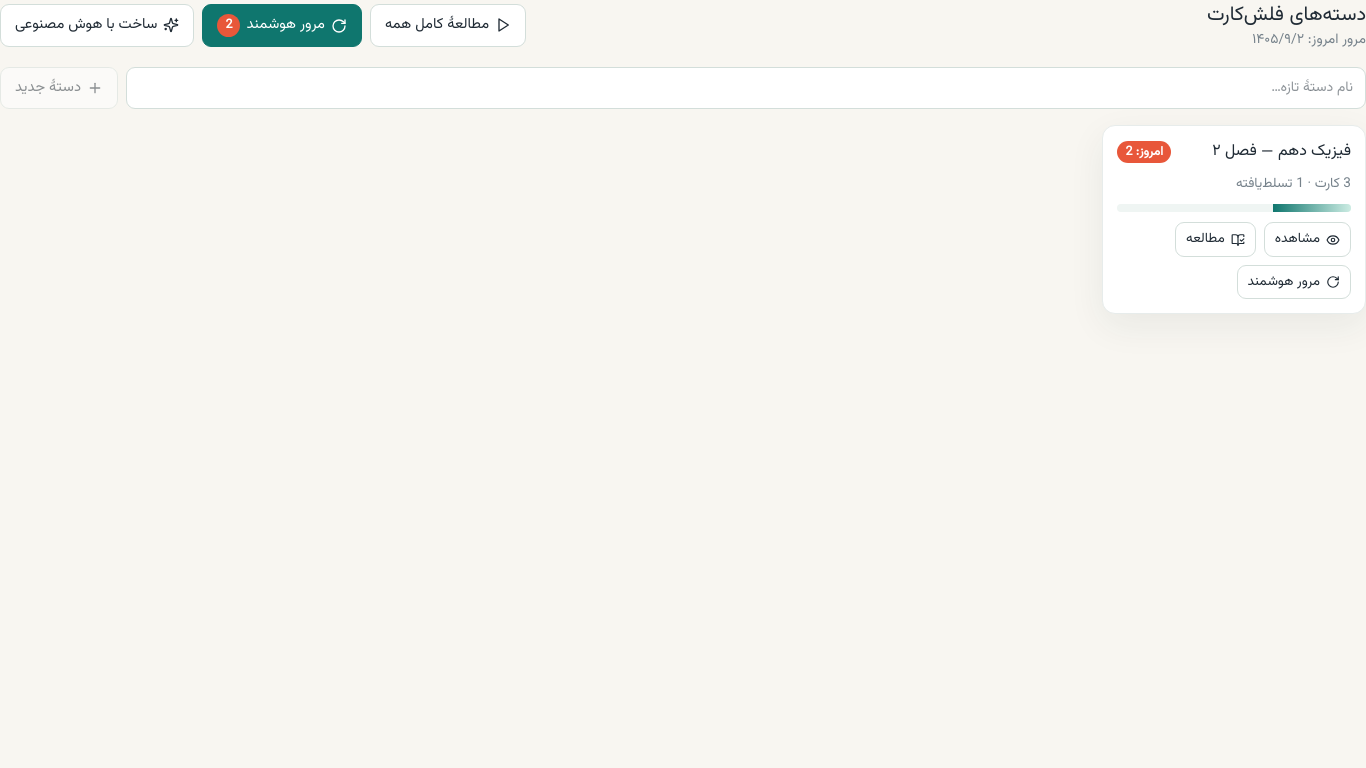
Test: generation modal › keeps the form values and shows the error when generation fails
Click the button "ساخت با هوش مصنوعی". click: (97, 26)
box: [0, 4, 194, 47]
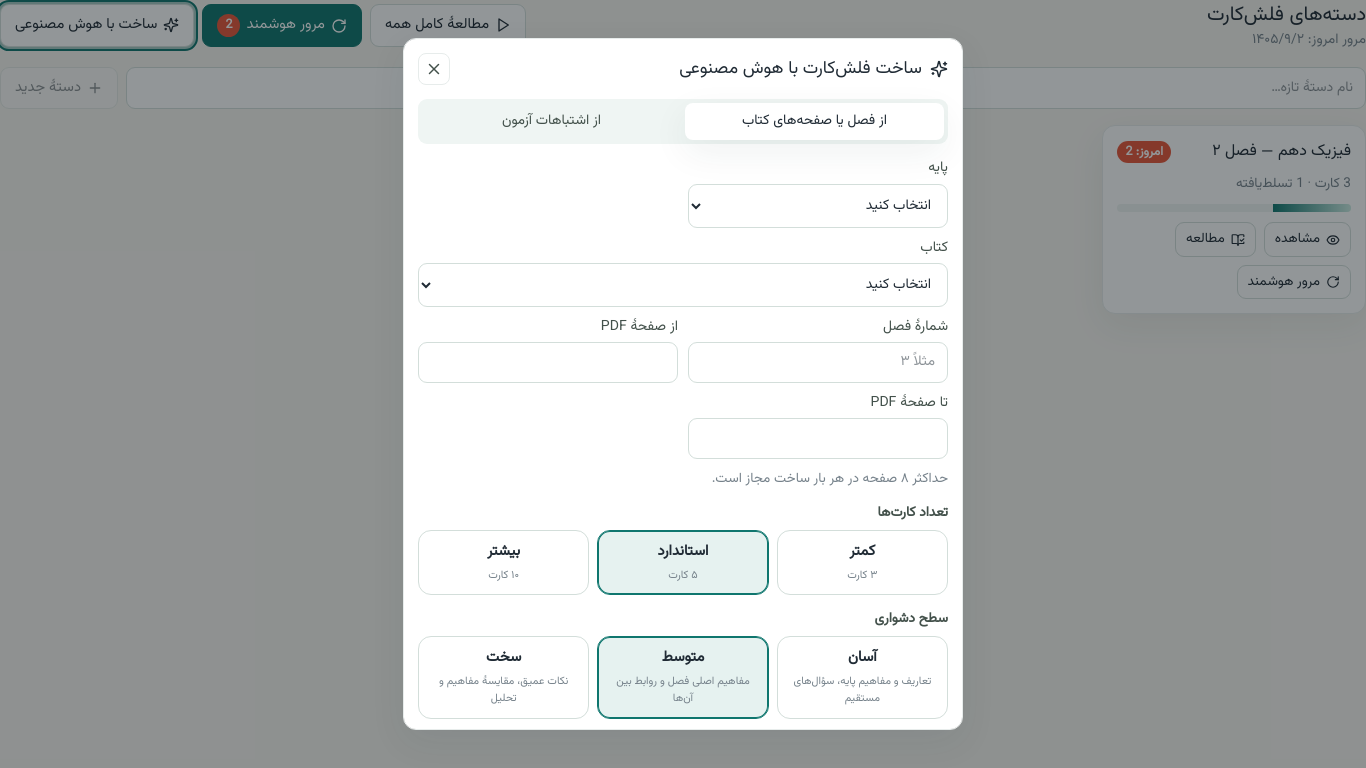
Click the button "از اشتباهات آزمون". click: (552, 122)
box: [422, 103, 681, 140]
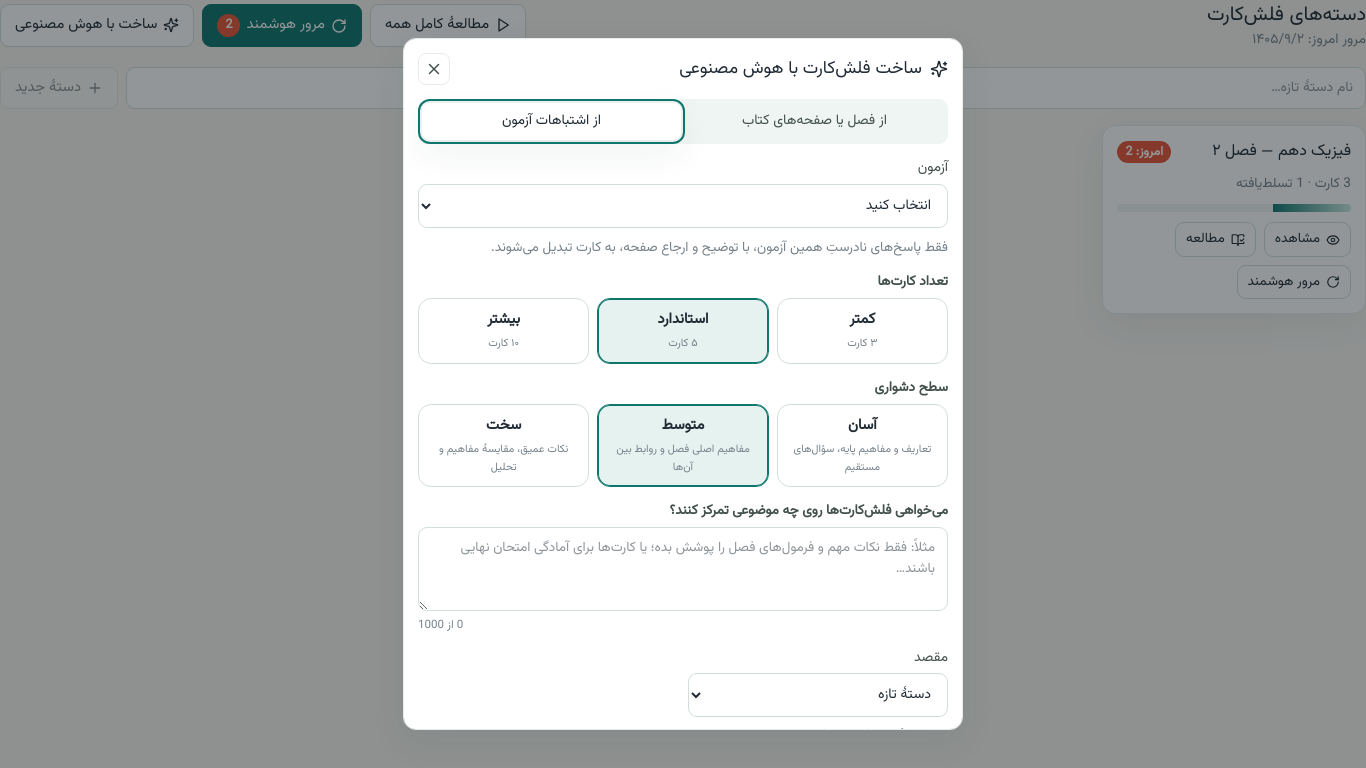
Expected: the dropdown labelled "آزمون" is shown
Select "آزمون ۱" in the dropdown labelled "آزمون". click: (683, 206)
box: [418, 184, 948, 228]
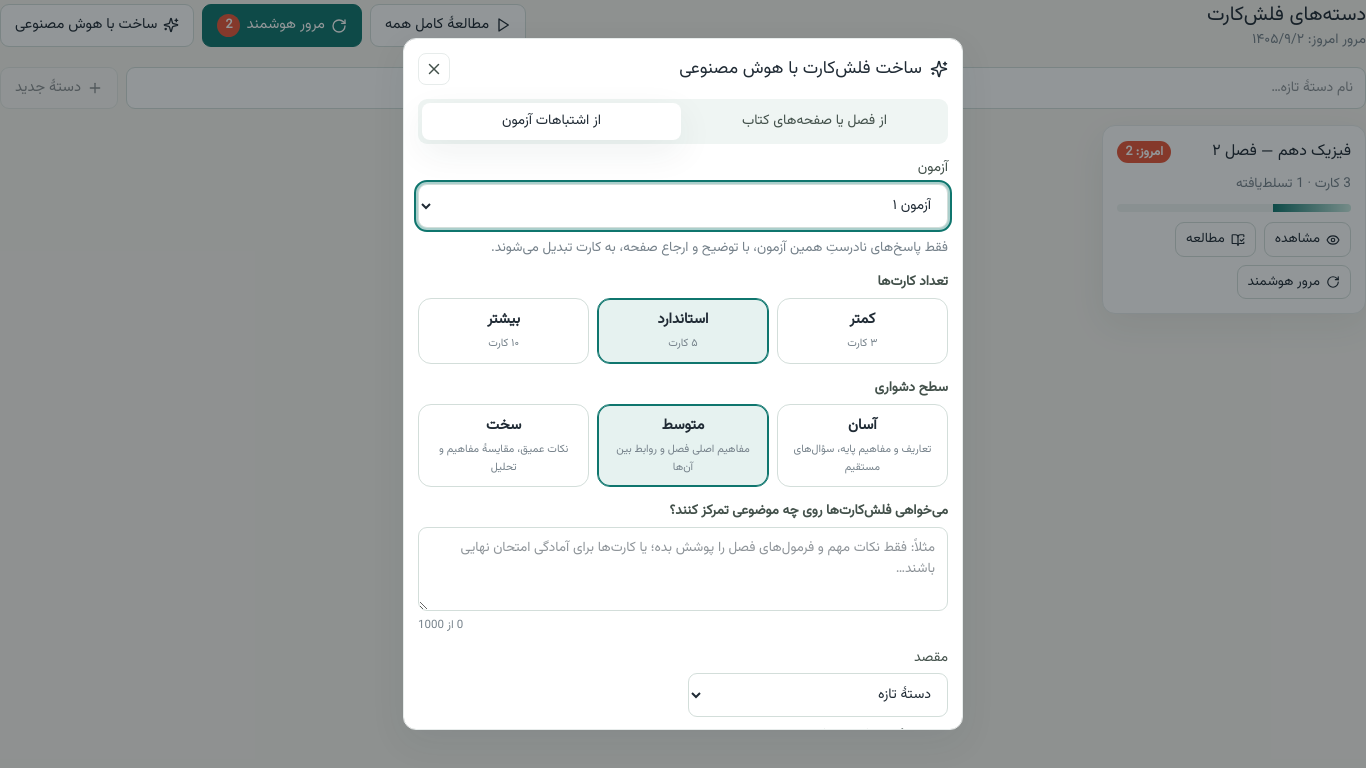
Click the radio button labelled "کمتر ۳ کارت". click: (862, 331)
box: [777, 298, 948, 364]
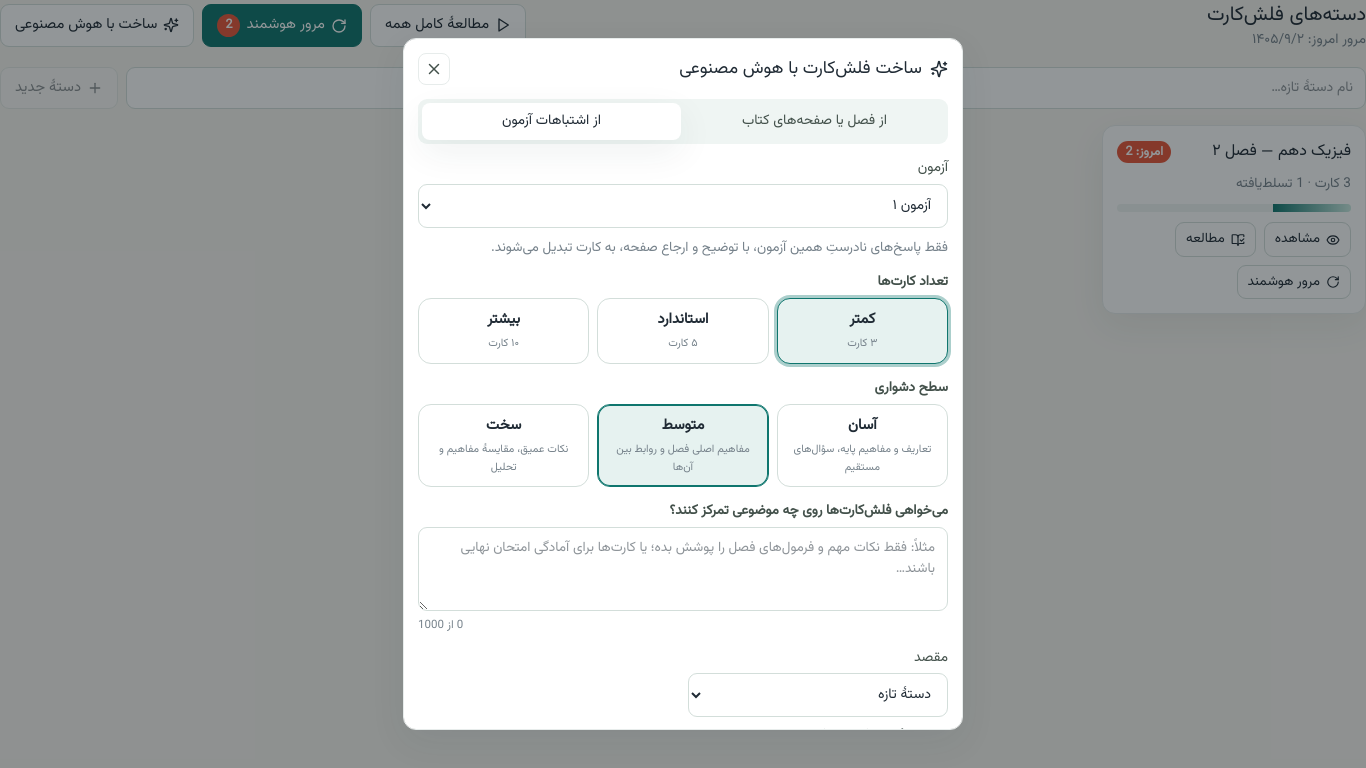
Type "فقط تعریف اصطلاحات" into the text box labelled "می‌خواهی فلش‌کارت‌ها روی چه موضوعی تمرکز کنند؟ 0 از 1000". click: (683, 569)
box: [418, 527, 948, 611]
(page scrolled)
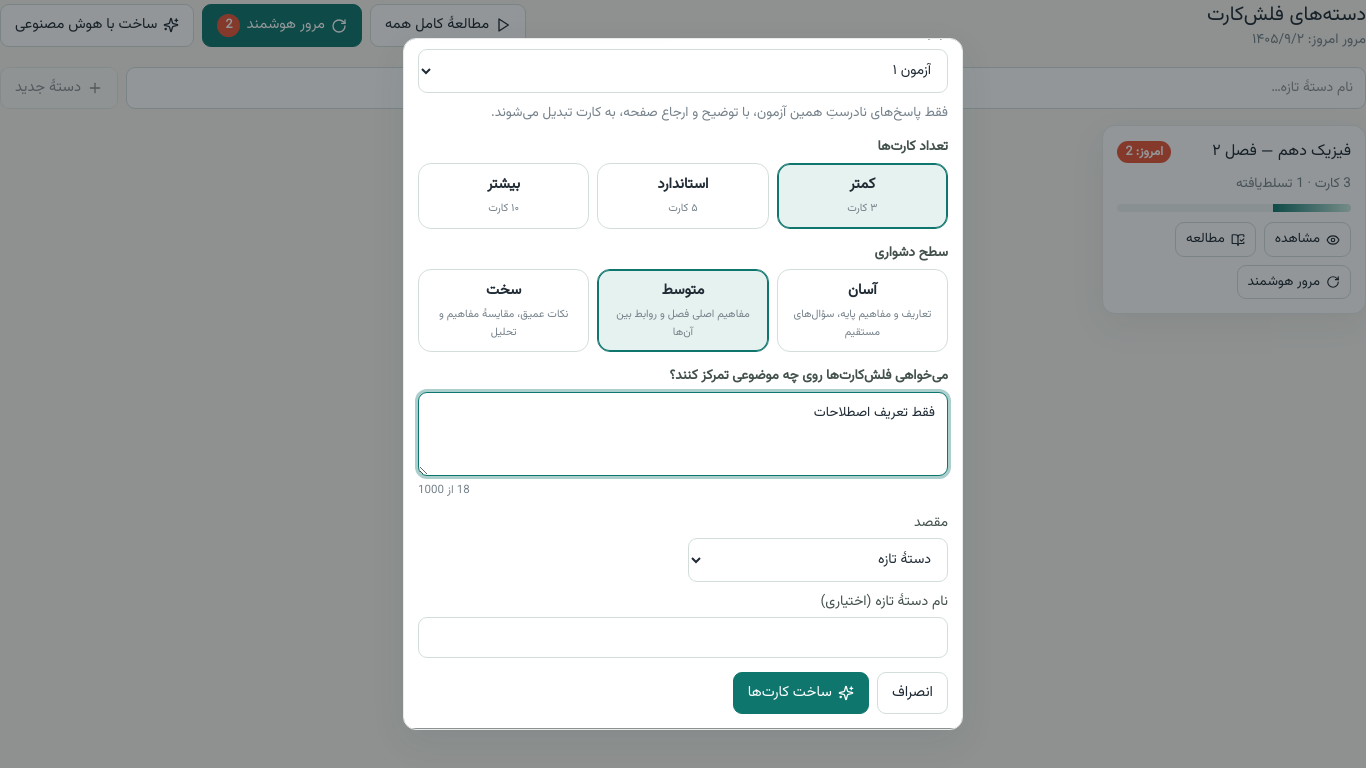
Click the button "ساخت کارت‌ها". click: (801, 693)
box: [733, 672, 869, 714]
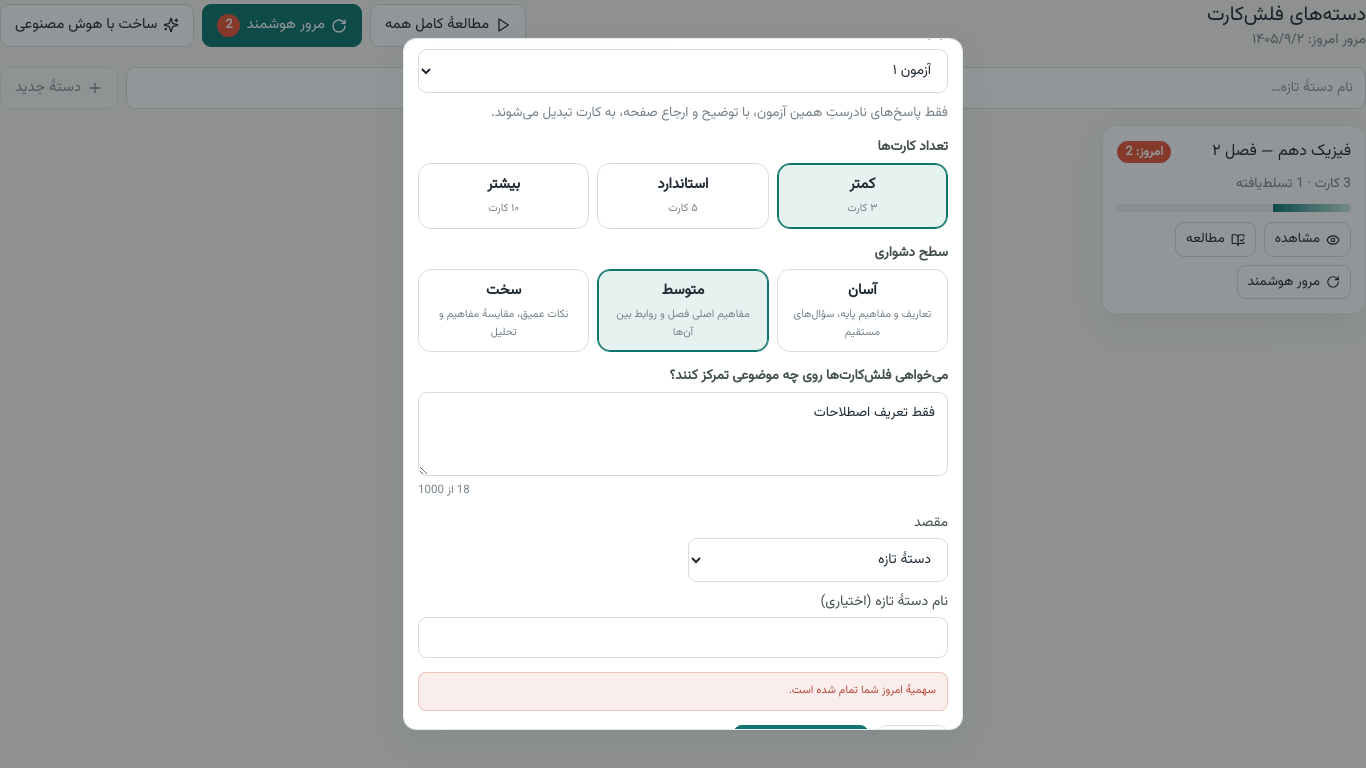
Expected: the message reads "سهمیهٔ امروز شما تمام شده است.", [789, 682, 936, 699]
